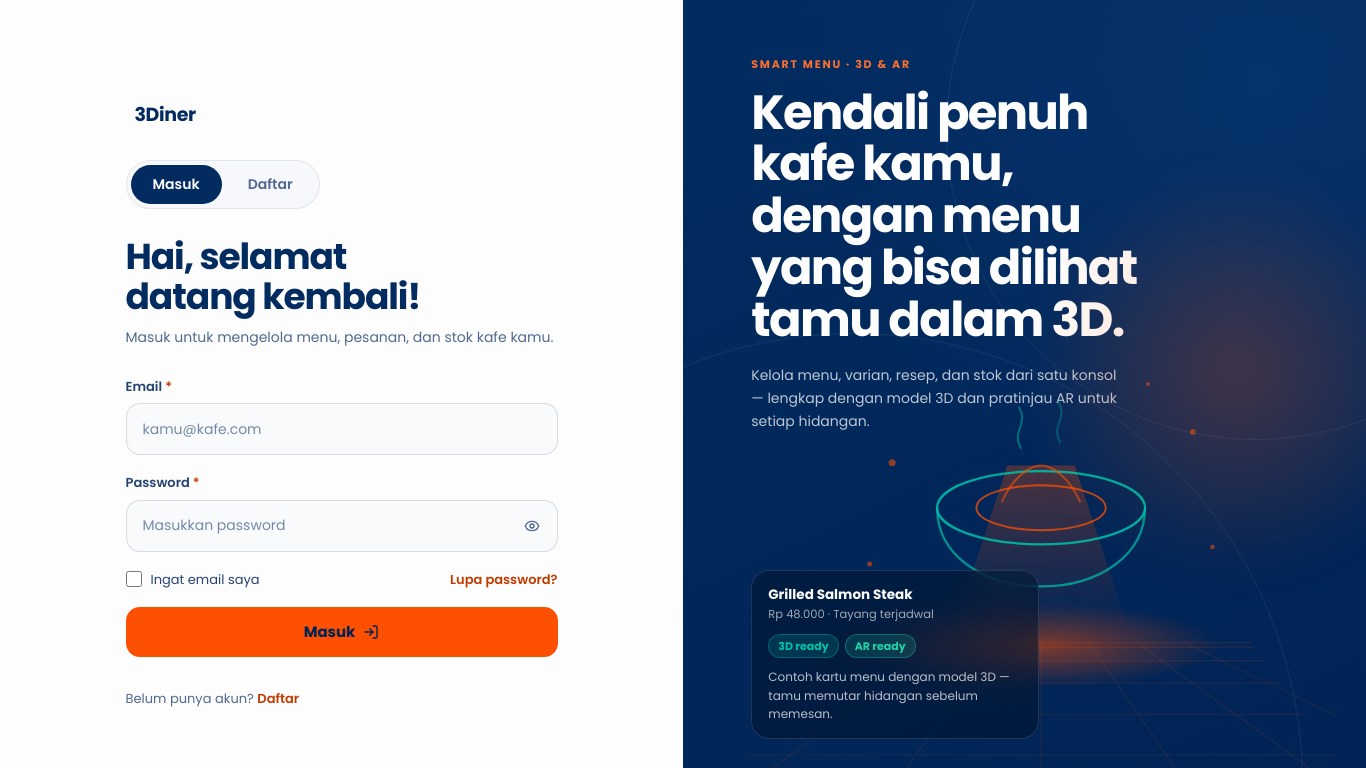
Test case: login authentication flow › shows a missing-account message and releases the loading state
This screenshot has width=1366, height=768.
Type "missing@example.com" into the field labelled "Email *" at (342, 429), box [126,404,556,454]
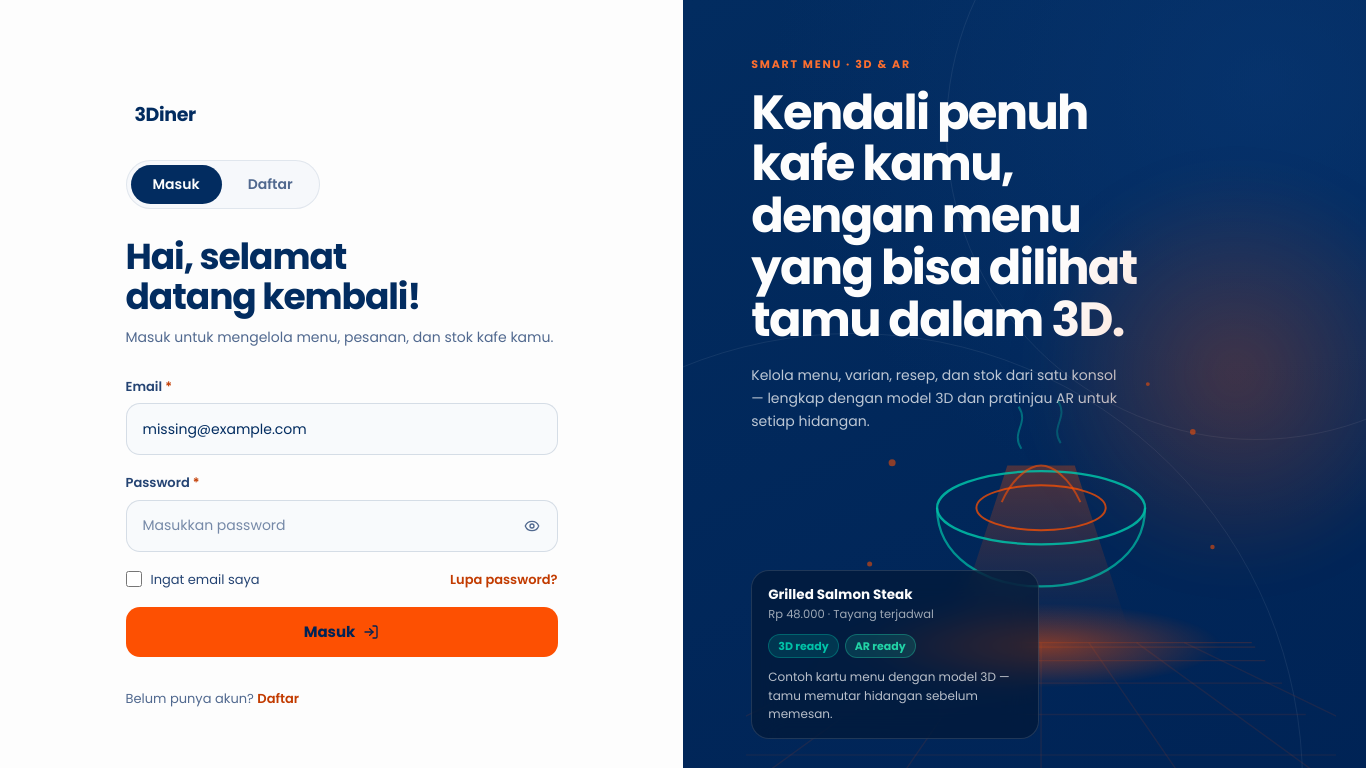
Type "local-test-password" into the password field labelled "Password *" at (342, 526), box [126,501,556,551]
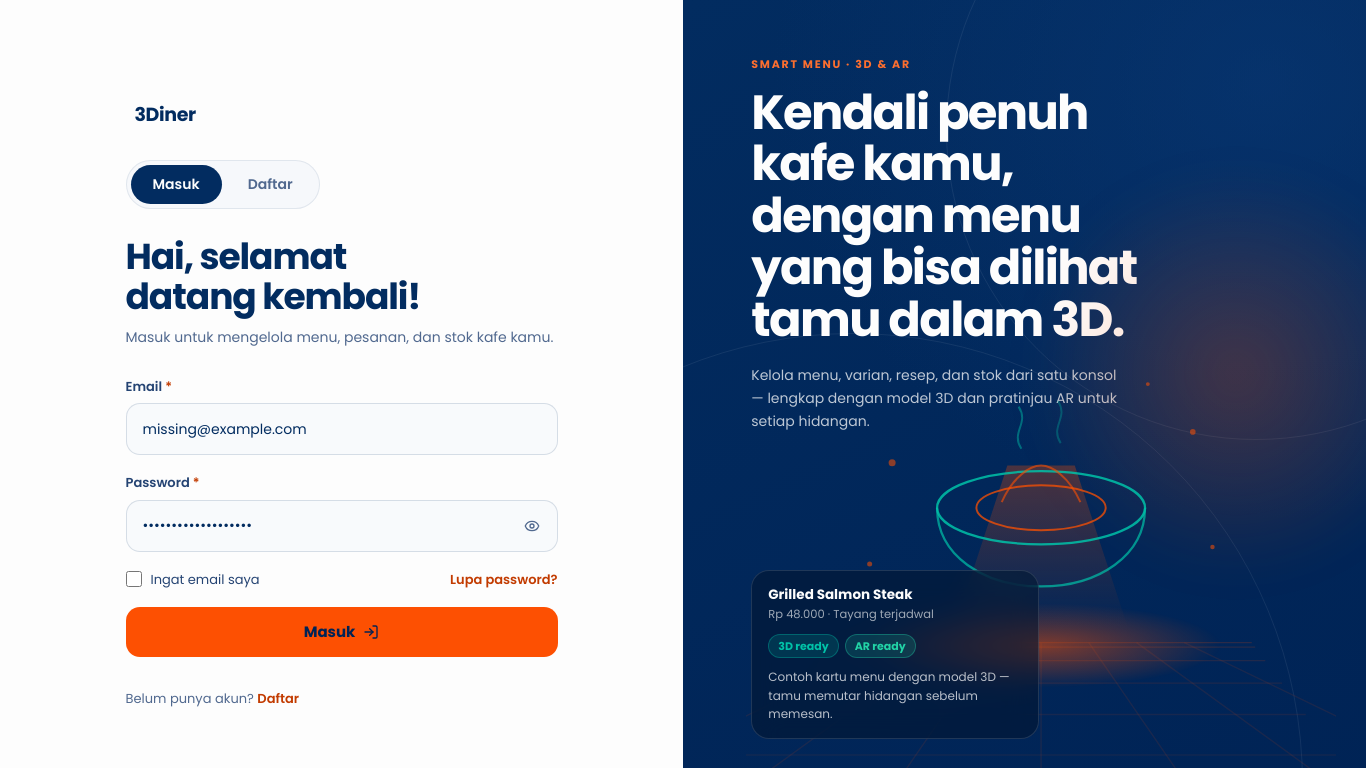
Click the button "Masuk" at (342, 632), box [126,607,558,657]
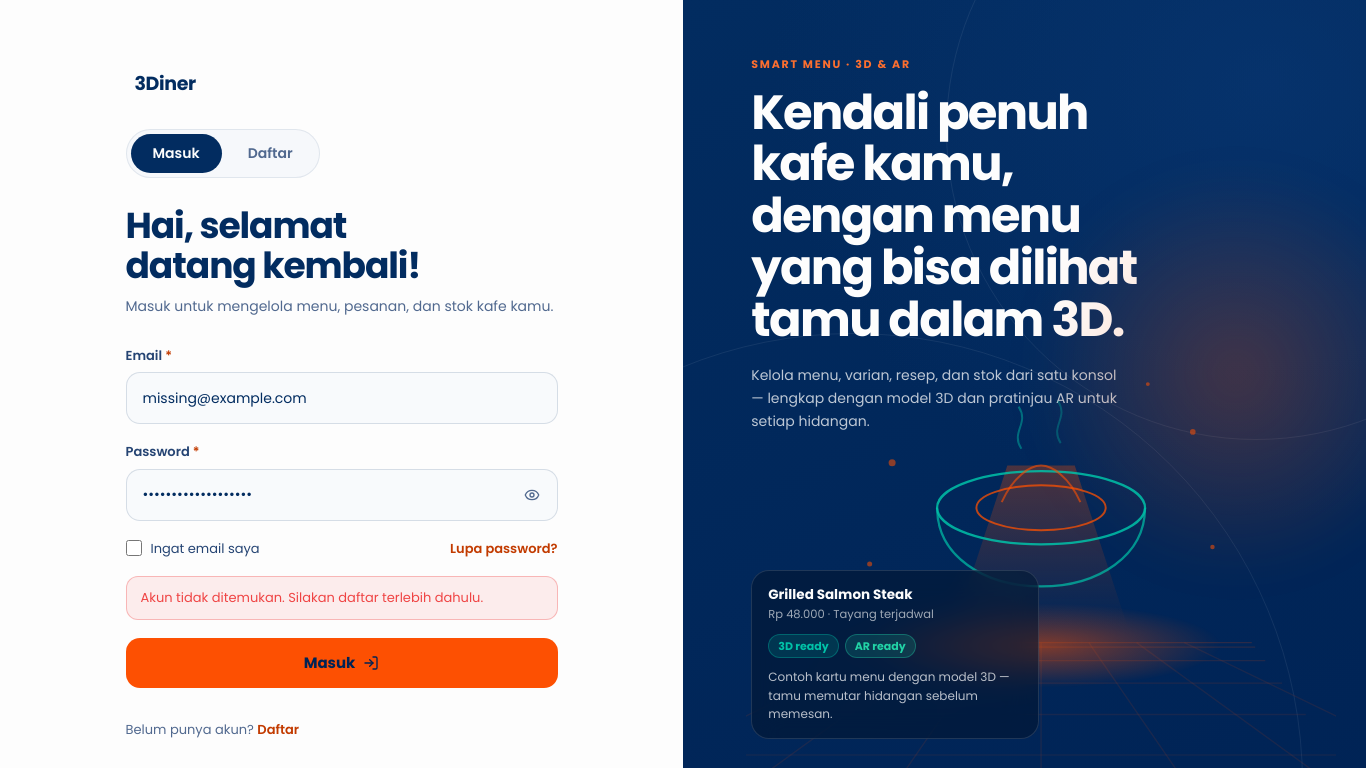
Check: the button "Masuk" is enabled, box [126,638,558,688]
Check: the message reads "Akun tidak ditemukan. Silakan daftar terlebih dahulu.", box [140,588,483,607]
